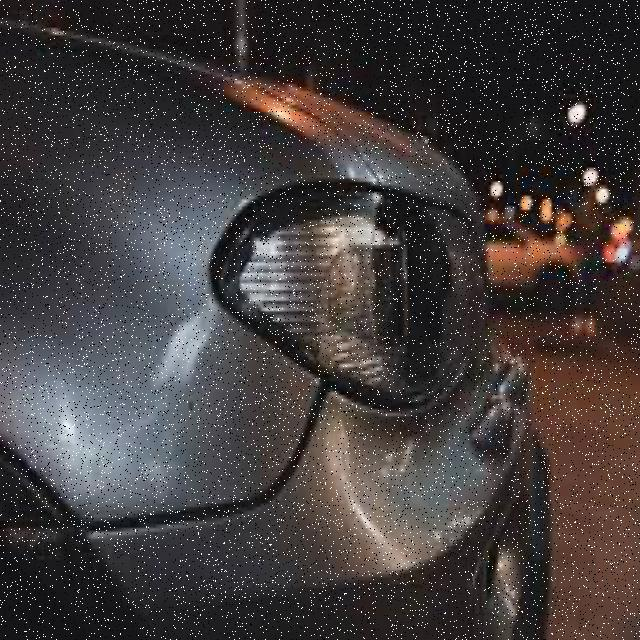Headlight-Damage: (201, 158, 494, 431)
